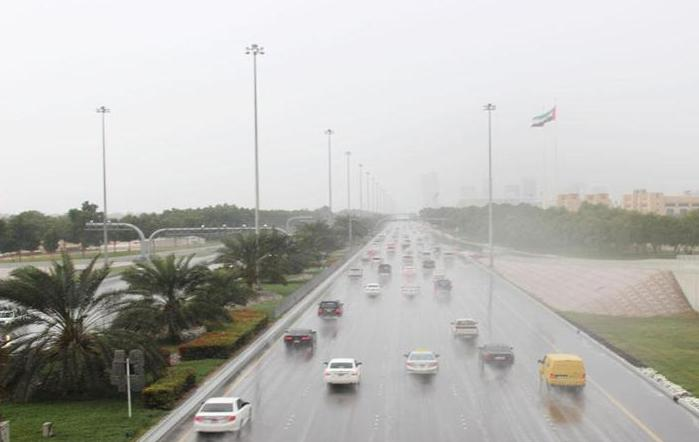car: (192, 395, 252, 433), (536, 353, 587, 390), (323, 356, 364, 385), (404, 347, 441, 378), (477, 341, 516, 368), (282, 326, 316, 350), (449, 316, 481, 340), (316, 299, 344, 320), (431, 275, 453, 300), (399, 282, 419, 299), (363, 282, 382, 297), (378, 263, 392, 278), (400, 254, 414, 268), (422, 258, 436, 271), (348, 266, 362, 278), (401, 265, 416, 276), (385, 242, 396, 254), (443, 250, 455, 260), (370, 256, 382, 265)
